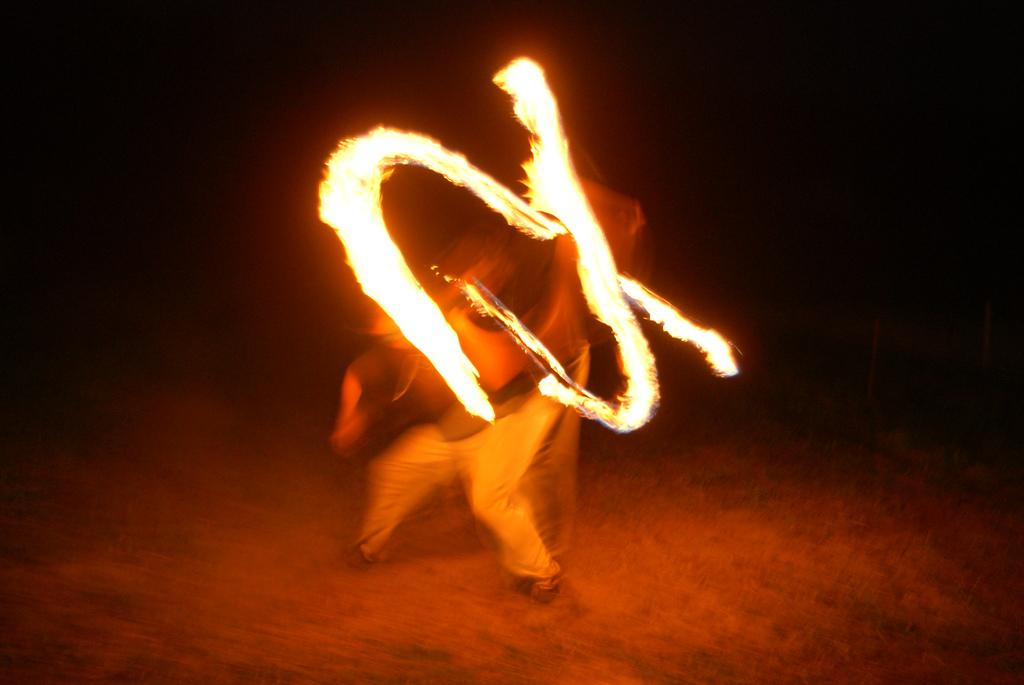fire: (325, 125, 390, 245), (593, 268, 655, 342), (545, 150, 580, 262), (628, 355, 660, 428)
